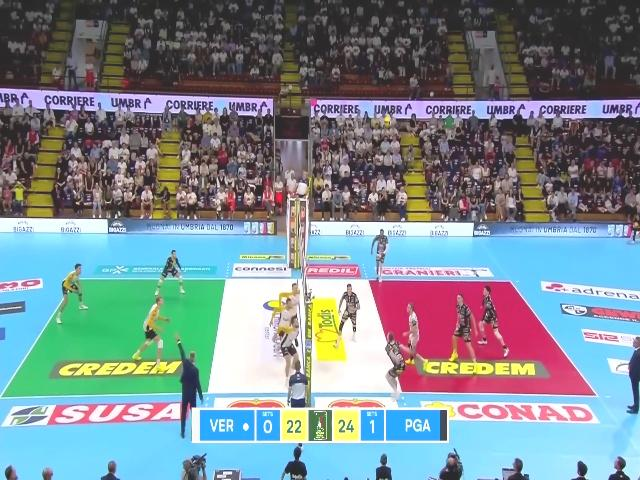volleyball court: (0, 275, 601, 395)
